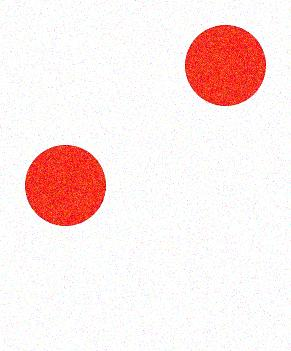I: (20, 21, 271, 331)
